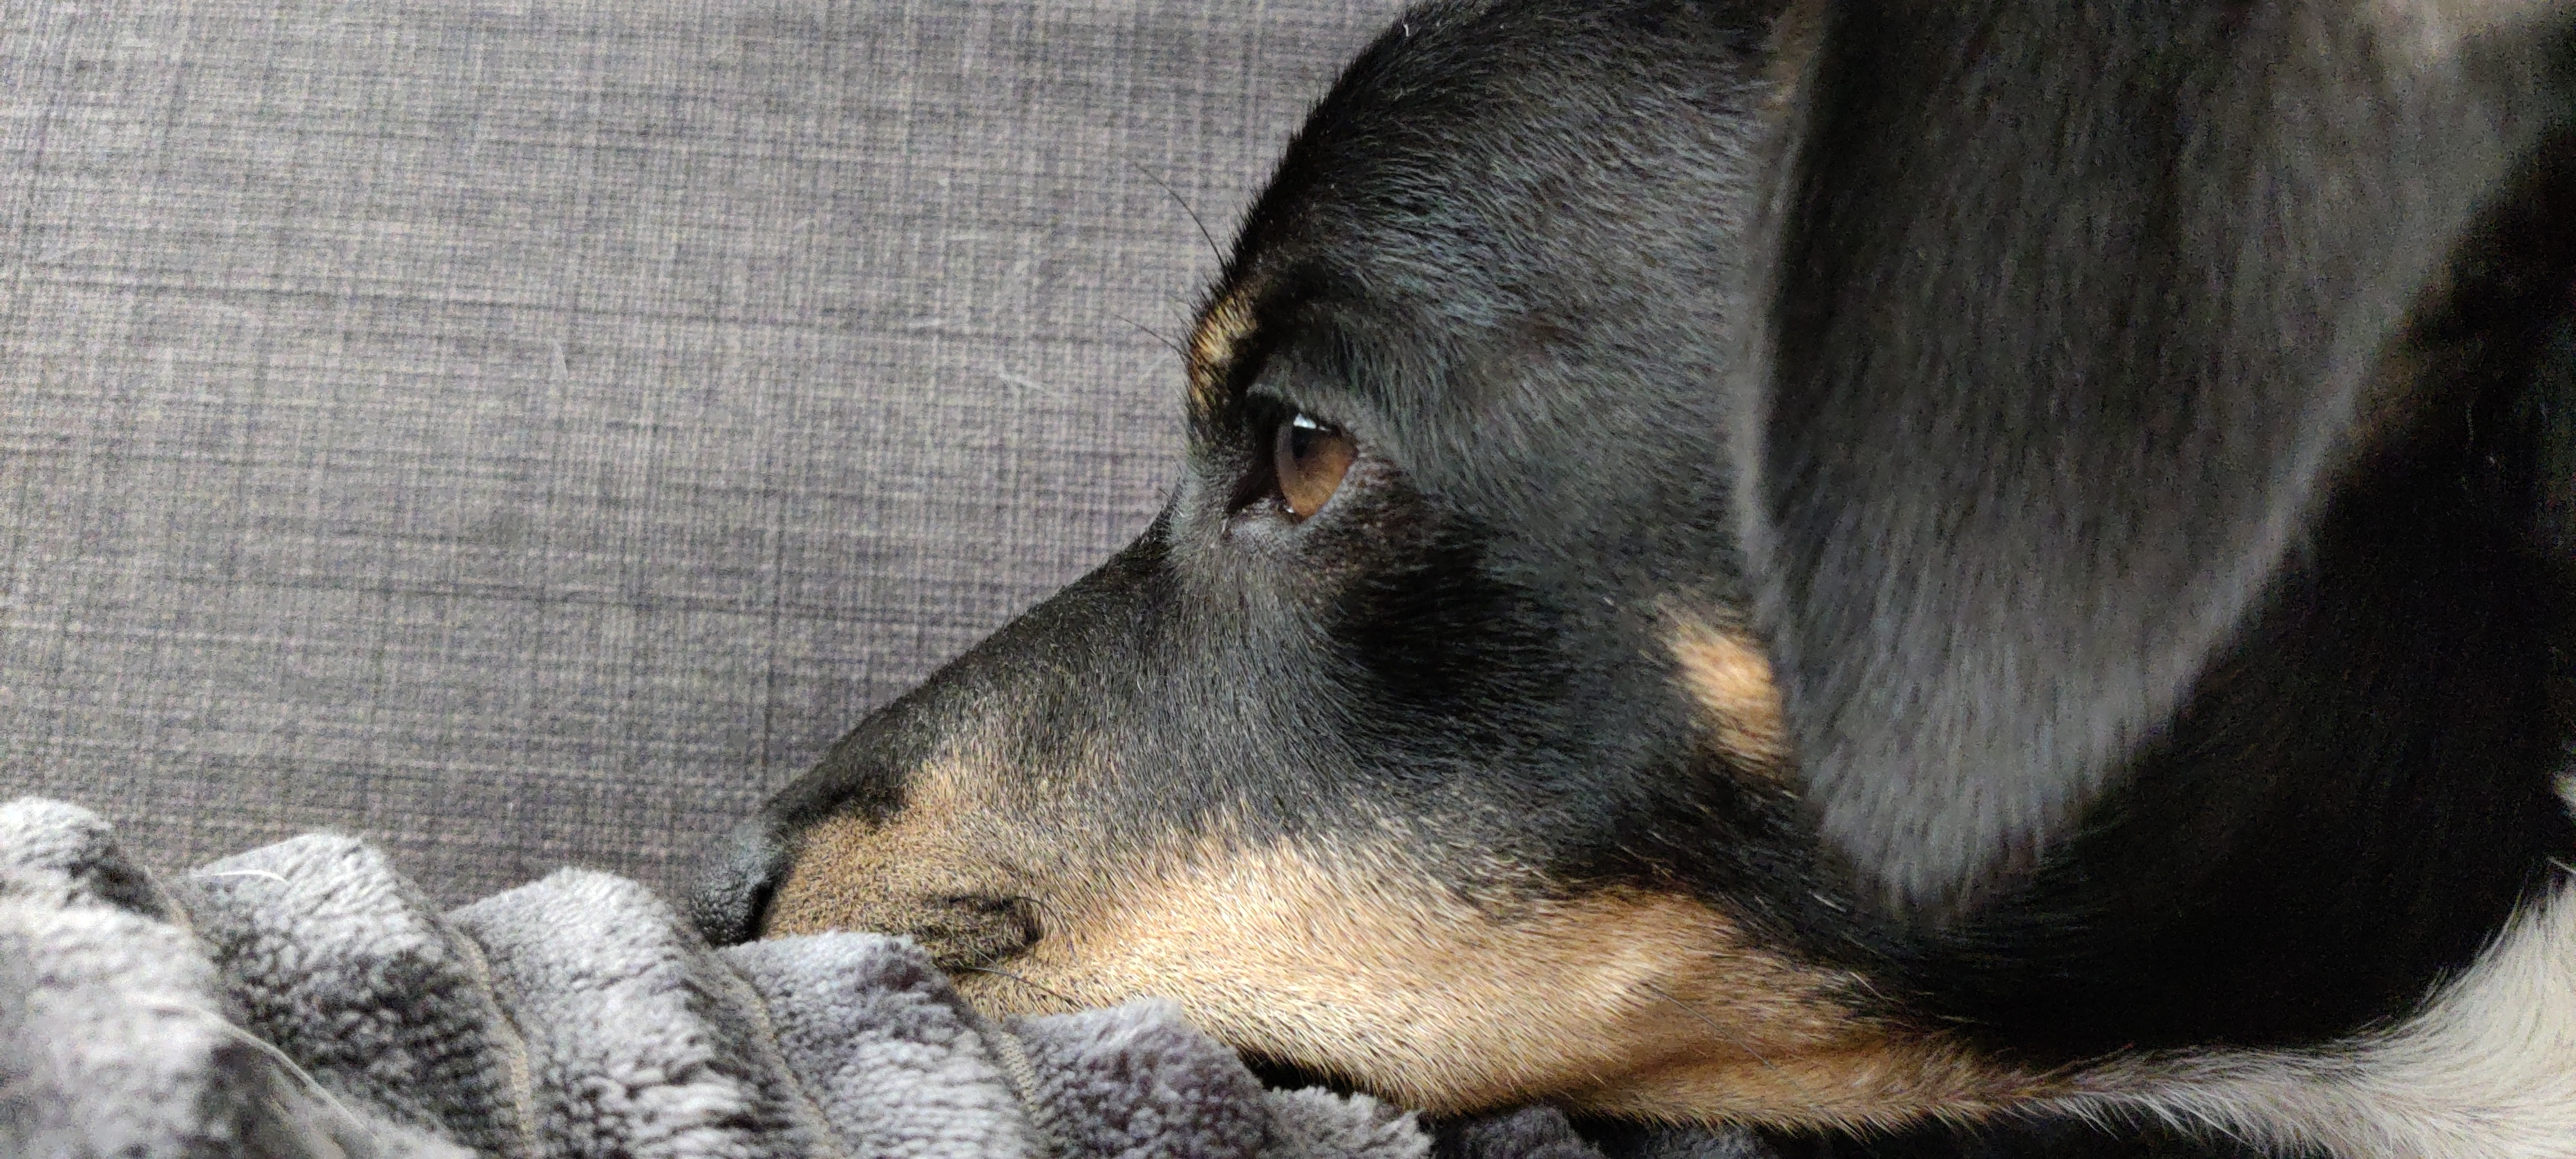Dog: (659, 0, 2576, 1159)
